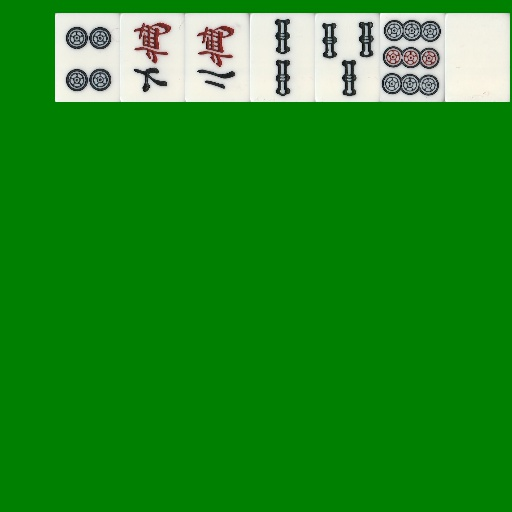2m: (185, 13, 250, 102)
2s: (250, 13, 315, 102)
3s: (315, 13, 380, 102)
4p: (55, 13, 120, 102)
7m: (120, 13, 185, 102)
9p: (380, 13, 445, 102)
white: (445, 13, 510, 102)
